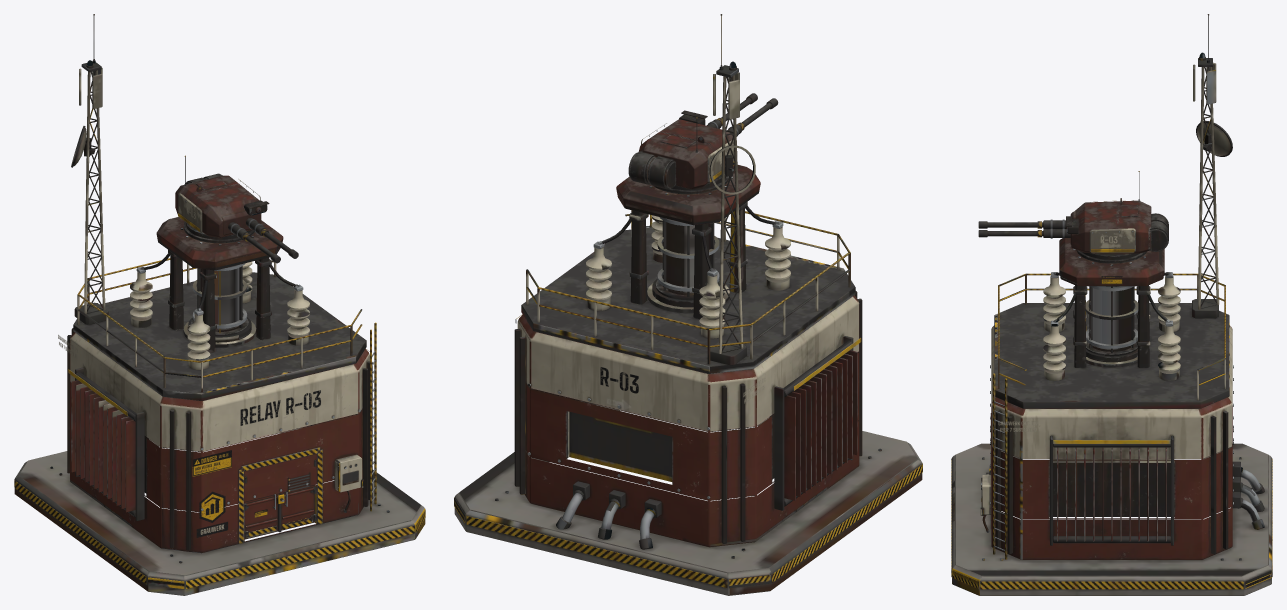
Rendered from enemy_relay.glb.
3 views of the same model, side by side, from view 1: azimuth 30°, elevation 25°; view 2: azimuth 150°, elevation 25°; view 3: azimuth 270°, elevation 25° (orthographic). The views are drawn at different scales.
Parts seen in each view (by area): view 1: base_geo, kit_geo, door_geo, head_geo, base_decals, core_geo, barrel_geo; view 2: base_geo, kit_geo, head_geo, core_geo, barrel_geo, base_decals; view 3: base_geo, kit_geo, head_geo, core_geo, barrel_geo, door_geo, base_decals.
Boxes of the visible parts, left/top/right/bottom form: base_geo: left=14, top=217, right=425, bottom=595; kit_geo: left=67, top=14, right=376, bottom=550; door_geo: left=238, top=447, right=363, bottom=544; head_geo: left=175, top=155, right=269, bottom=243; base_decals: left=58, top=335, right=320, bottom=537; core_geo: left=192, top=263, right=247, bottom=333; barrel_geo: left=221, top=210, right=298, bottom=263; base_geo: left=454, top=165, right=922, bottom=595; kit_geo: left=514, top=14, right=862, bottom=549; head_geo: left=628, top=110, right=734, bottom=194; core_geo: left=657, top=217, right=719, bottom=296; barrel_geo: left=706, top=93, right=778, bottom=136; base_decals: left=600, top=367, right=765, bottom=403; base_geo: left=951, top=238, right=1272, bottom=595; kit_geo: left=990, top=14, right=1264, bottom=559; head_geo: left=1066, top=171, right=1168, bottom=263; core_geo: left=1085, top=286, right=1138, bottom=353; barrel_geo: left=978, top=211, right=1075, bottom=244; door_geo: left=980, top=413, right=992, bottom=532; base_decals: left=998, top=276, right=1122, bottom=431.
Bounding box in the file's own units: 10.64 × 17.44 × 10.64.
3 materials, 3 textured.
